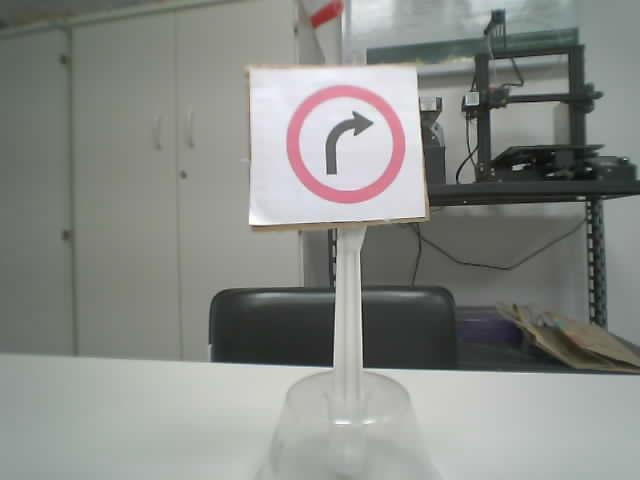R-25b_direita: (284, 83, 405, 204)
